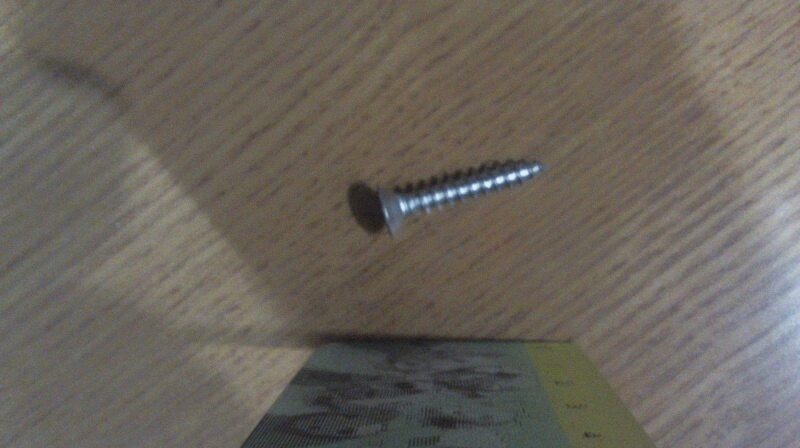S001: (372, 152, 549, 242)
